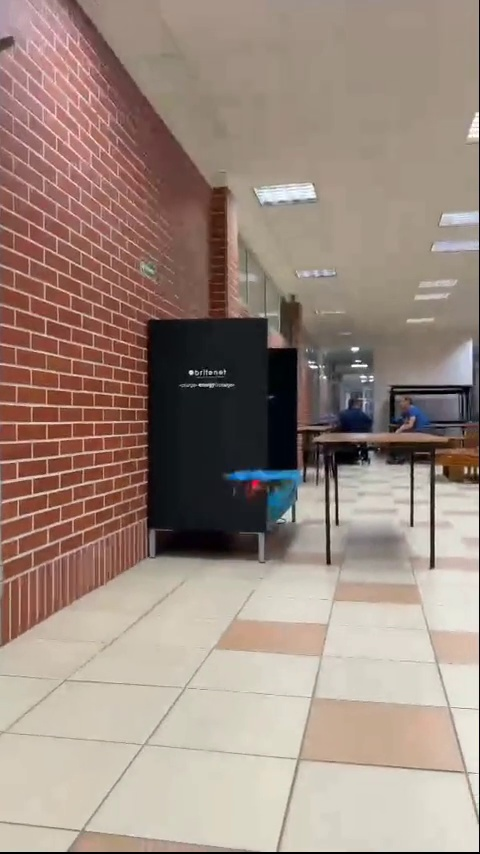drone: (234, 467, 291, 496)
no vest: (396, 393, 427, 432), (341, 391, 368, 434)
